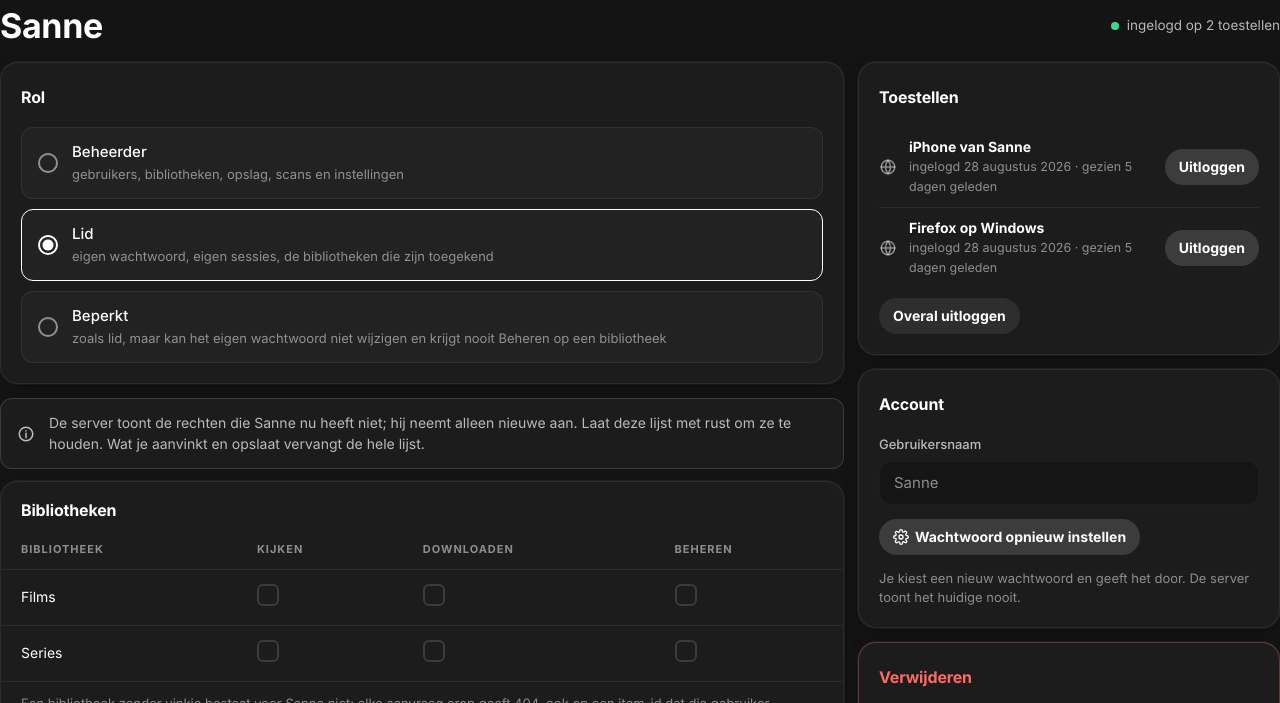
Scenario: bibliotheekrechten › wijst bij library.not_found naar opnieuw laden
Click the checkbox named "Films, Kijken" at (268, 595), box [257, 584, 279, 606]
(page scrolled)
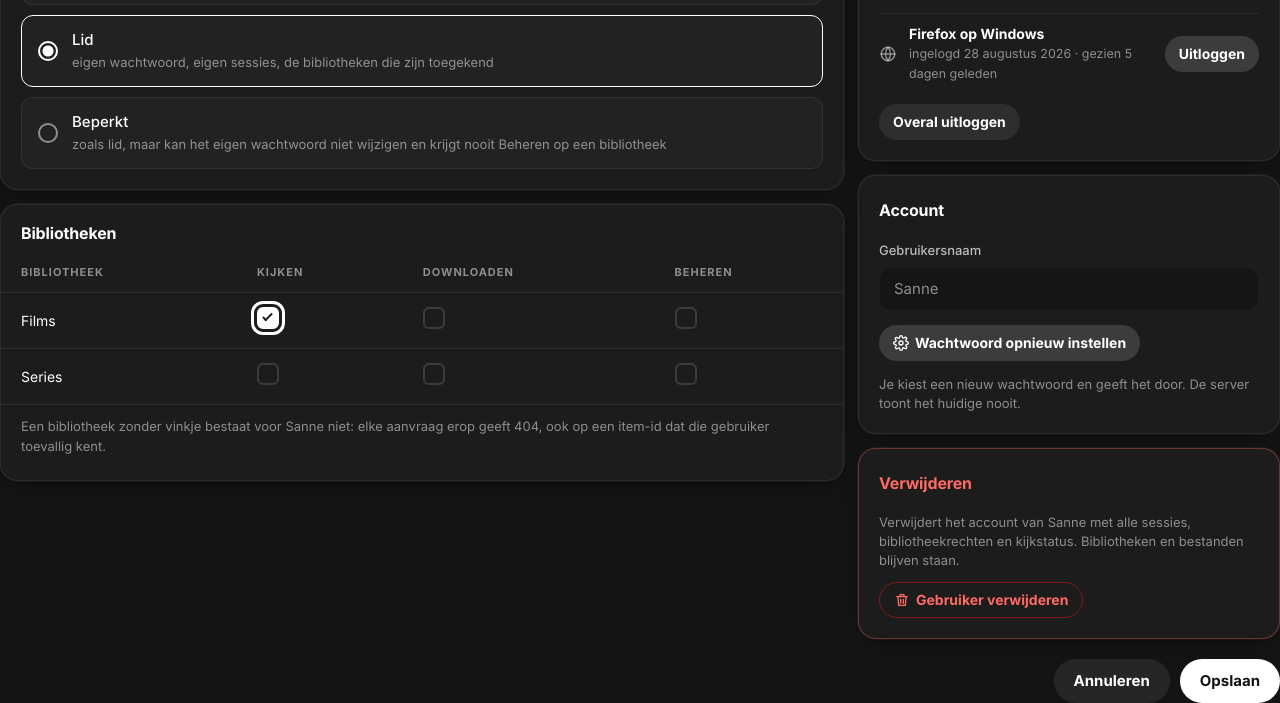
Click the button "Opslaan" at (1230, 681), box [1180, 659, 1279, 702]
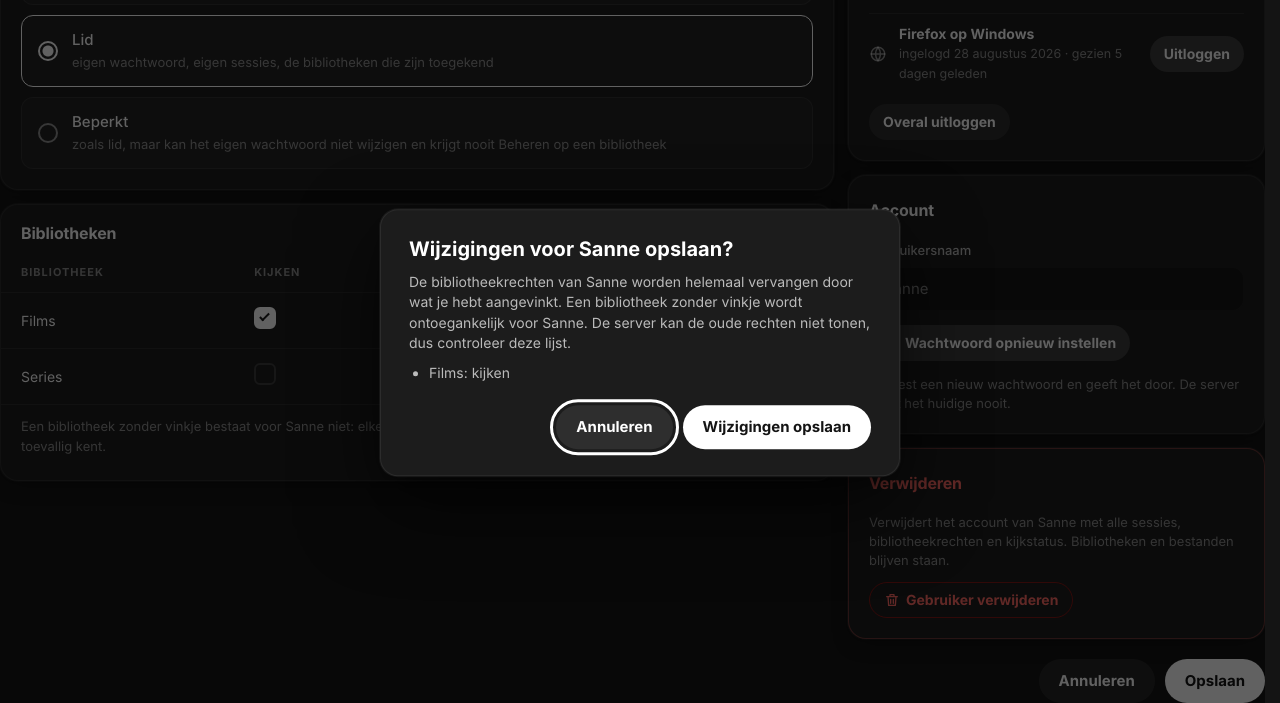
Click the button "Wijzigingen opslaan" at (777, 428), box [683, 406, 871, 450]
(page scrolled)
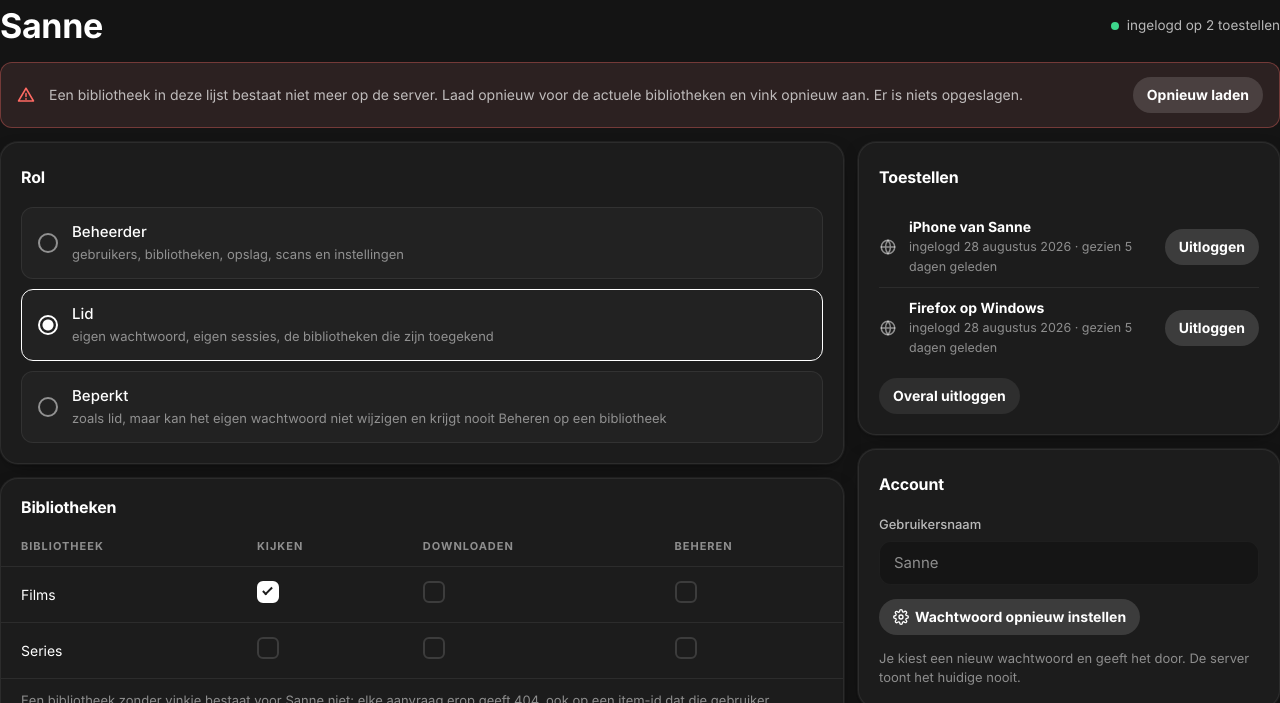
Expected: the message shows "bestaat niet meer", [49, 86, 1023, 103]
Expected: the button "Opnieuw laden" is shown, [1133, 77, 1263, 113]
